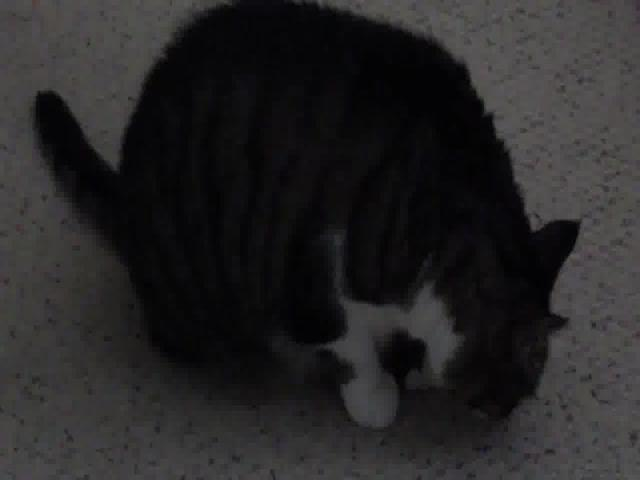playdoh: (29, 1, 584, 440)
